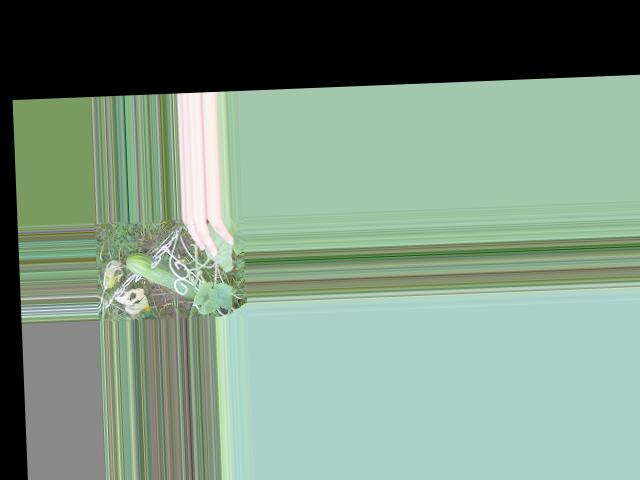cucumber: (126, 250, 197, 300)
